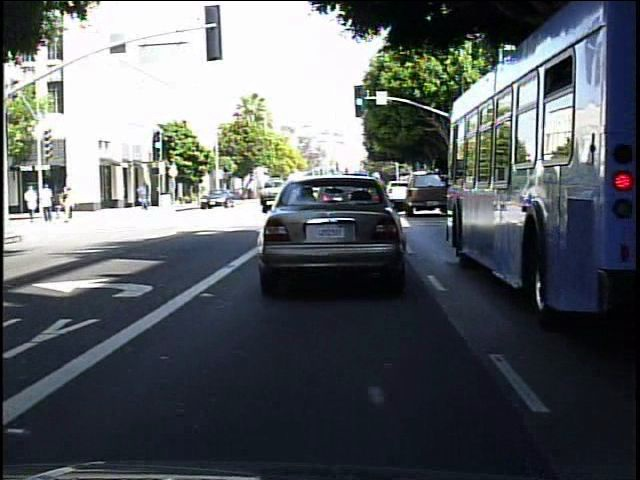person: (22, 180, 38, 223), (134, 179, 152, 214), (39, 182, 54, 223), (56, 183, 71, 222), (53, 188, 63, 221), (64, 182, 65, 221)
